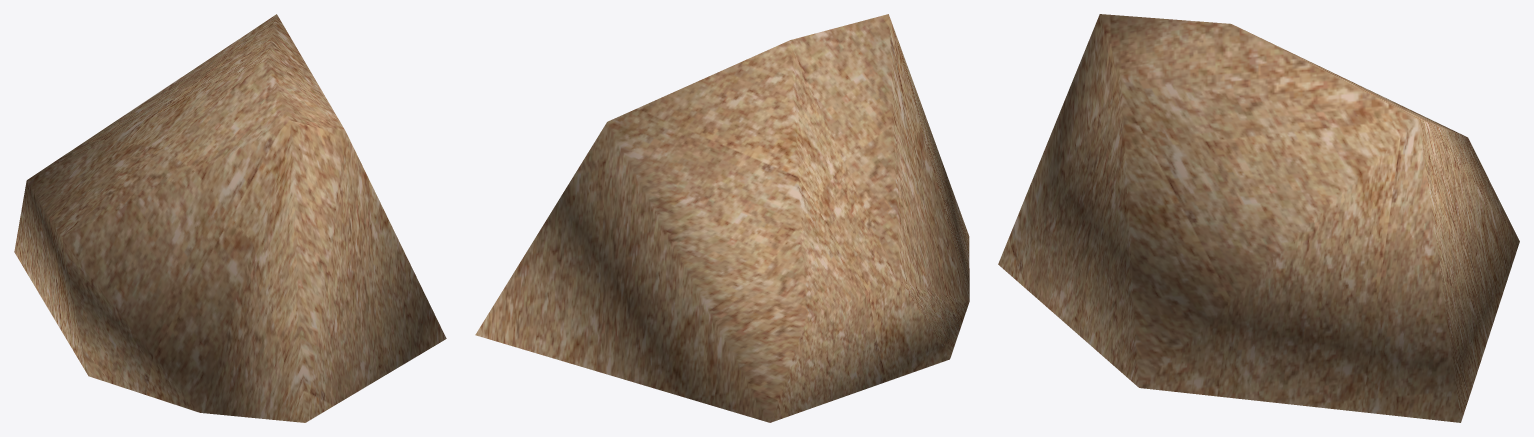
Rendered from rock_pebbleclump_a3_l2.fbx.
The picture shows the model from 3 angles, left to right: view 1: azimuth 30°, elevation 25°; view 2: azimuth 150°, elevation 25°; view 3: azimuth 270°, elevation 25°; orthographic projection. The views are drawn at different scales.
Visible parts, largest first — view 1: mesh_node; view 2: mesh_node; view 3: mesh_node.
Part boxes in pixels (x1,y1,x2,y2): mesh_node: (14,14,446,422); mesh_node: (475,14,969,422); mesh_node: (998,14,1519,422).
Bounding box in the file's own units: 0.2603 × 0.1805 × 0.2898.
